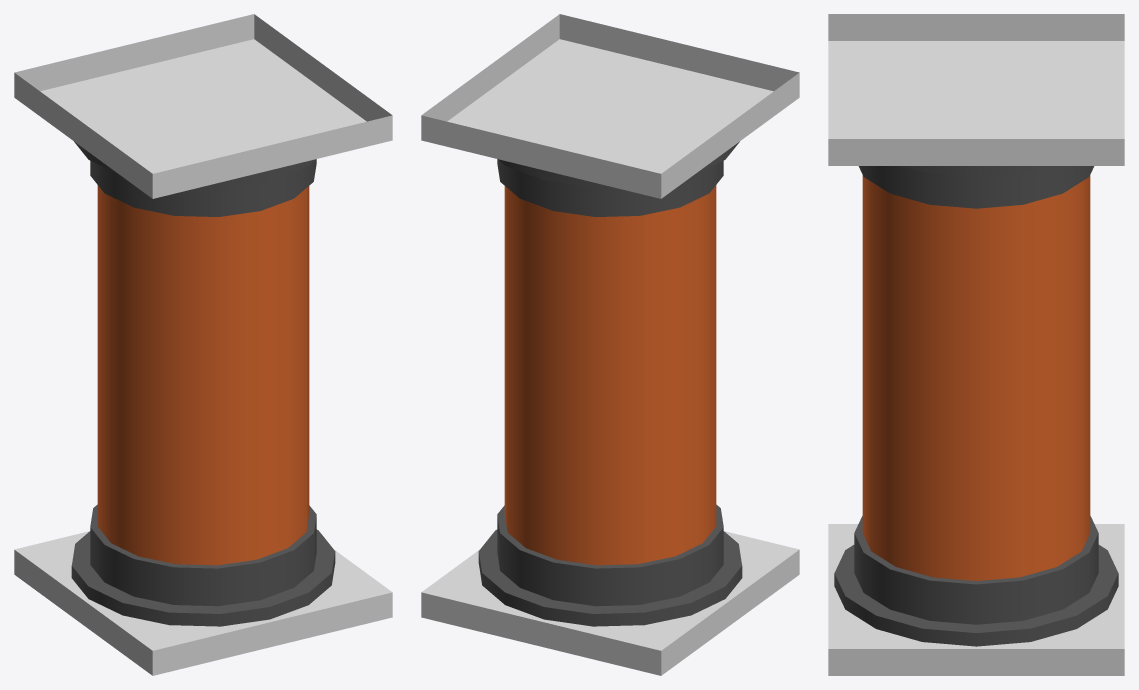
File: container_lab_large.fbx
The picture shows the model from 3 angles, left to right: view 1: azimuth 30°, elevation 25°; view 2: azimuth 150°, elevation 25°; view 3: azimuth 270°, elevation 25°; orthographic projection. The views are drawn at different scales.
Visible parts, largest first — view 1: container_lab_large; view 2: container_lab_large; view 3: container_lab_large.
Boxes of the visible parts, <box> form: container_lab_large: <box>14,14,392,675</box>; container_lab_large: <box>421,14,799,675</box>; container_lab_large: <box>828,14,1124,675</box>.
Bounding box in the file's own units: 200 × 400 × 200.
